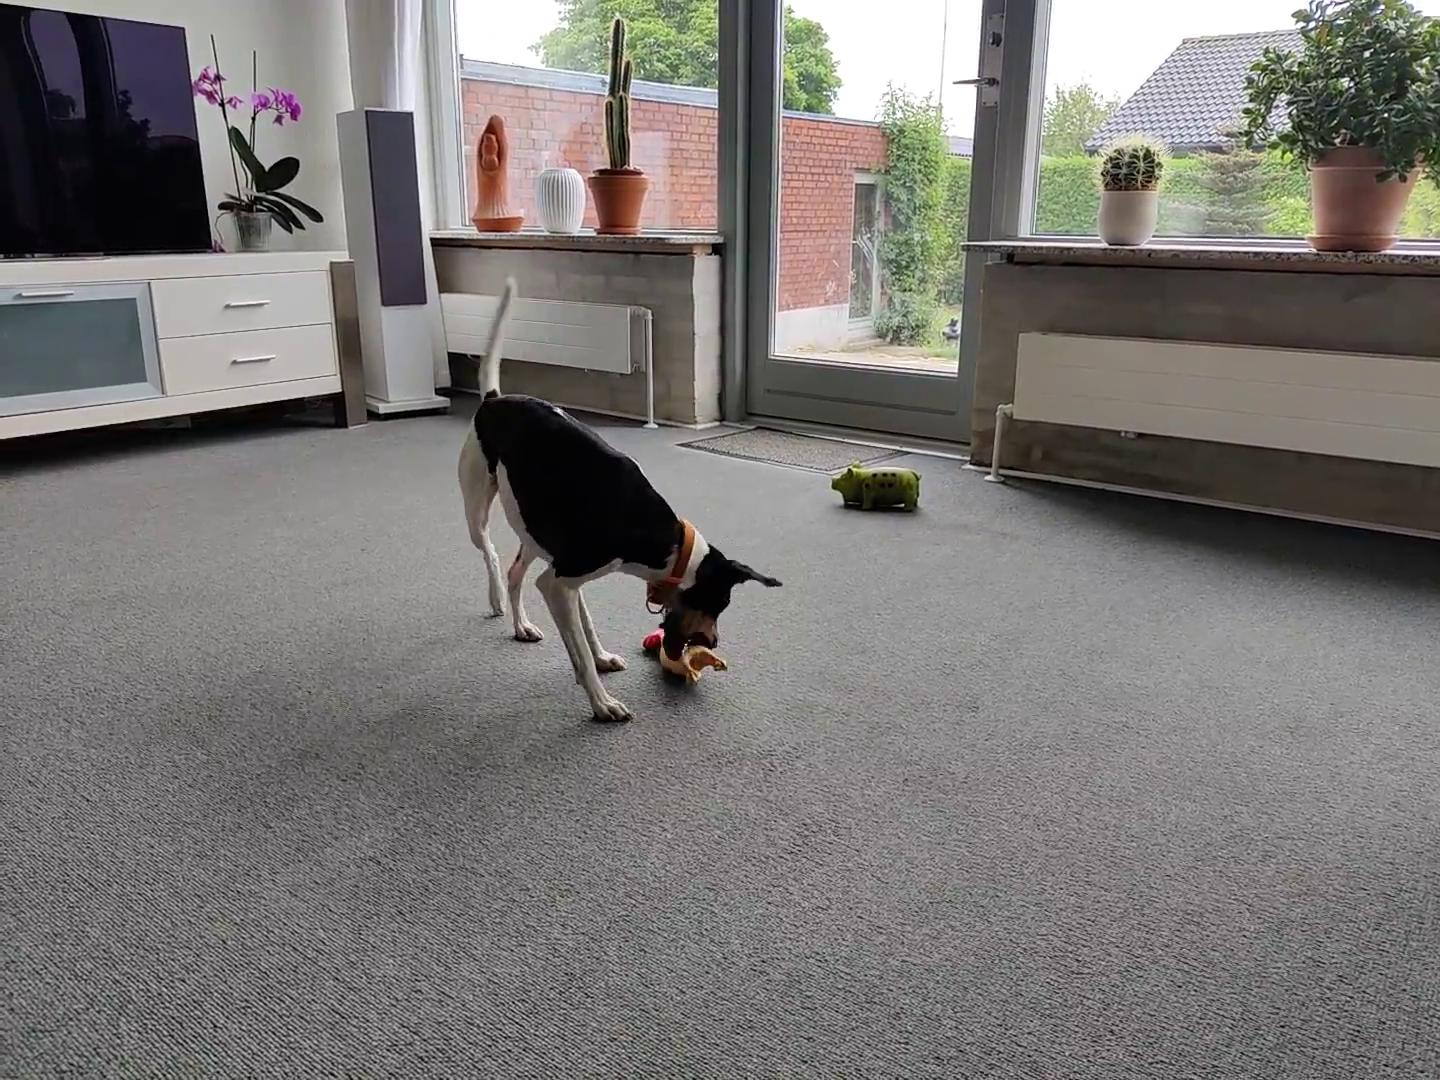Dog: (456, 273, 785, 725)
